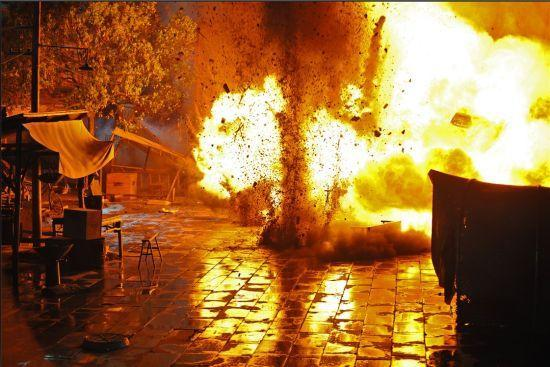fire: (192, 3, 550, 264)
